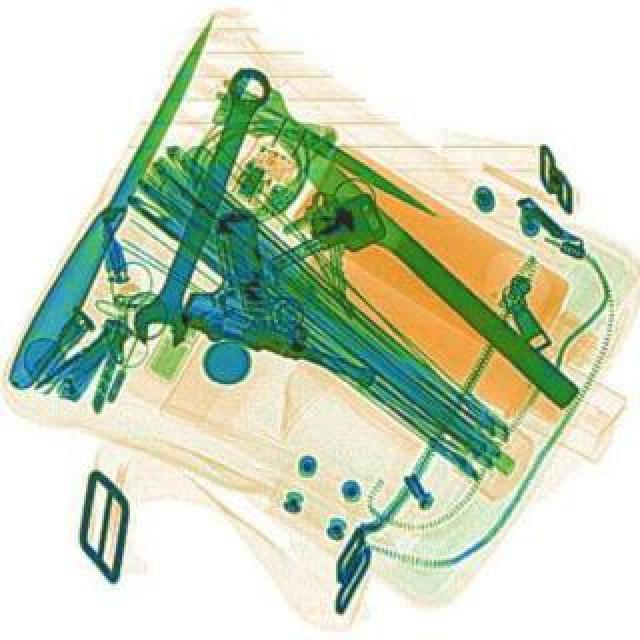gun: (172, 206, 416, 392)
knife: (252, 112, 580, 412), (0, 16, 224, 396), (208, 80, 448, 228)
scissors: (124, 68, 280, 358)
